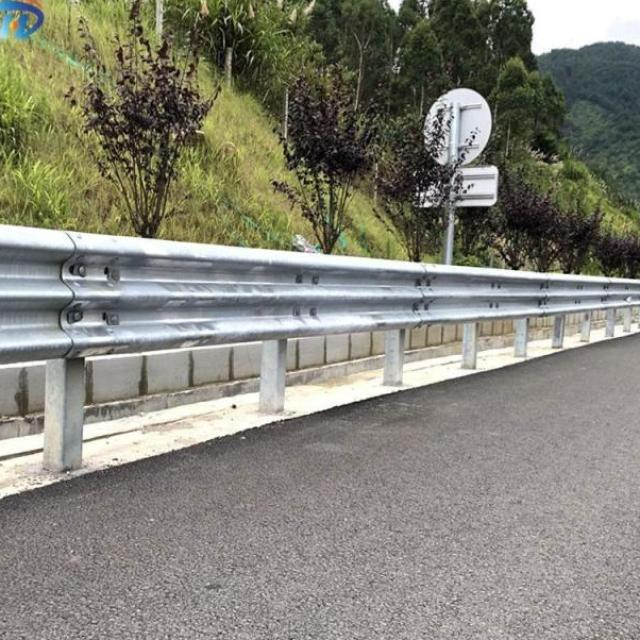Guard rail: (0, 225, 640, 364)
